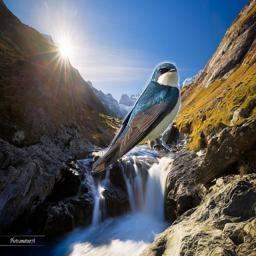Swallow: (88, 58, 185, 175)
